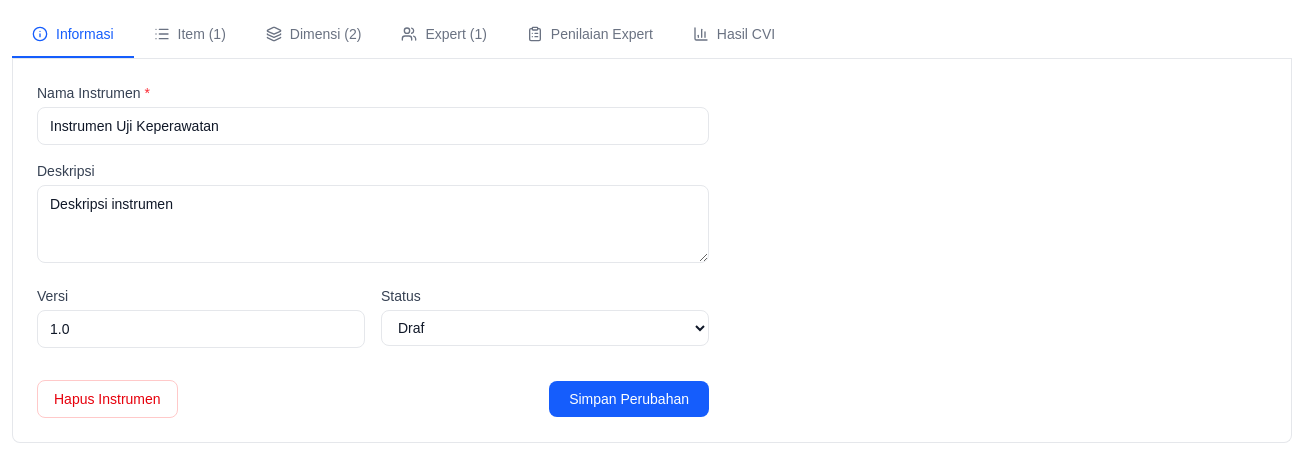
Test: InstrumentDetailTabs › harus berpindah ke tab Hasil CVI saat diklik
Click the button "Hasil CVI" at (734, 35), box [673,12,795,58]
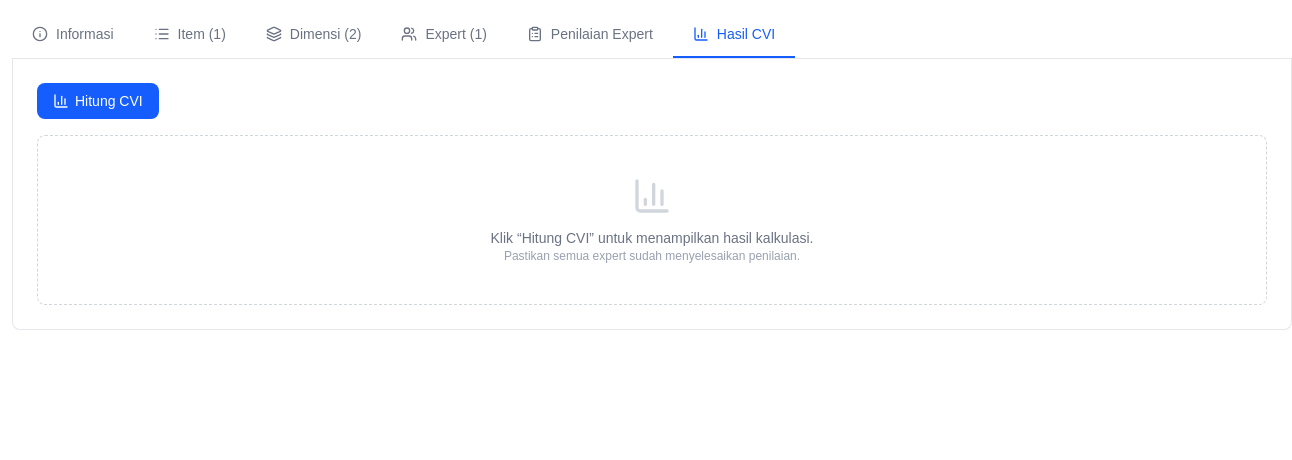
Check: the button "Hitung CVI" is shown, box [37,83,159,119]
